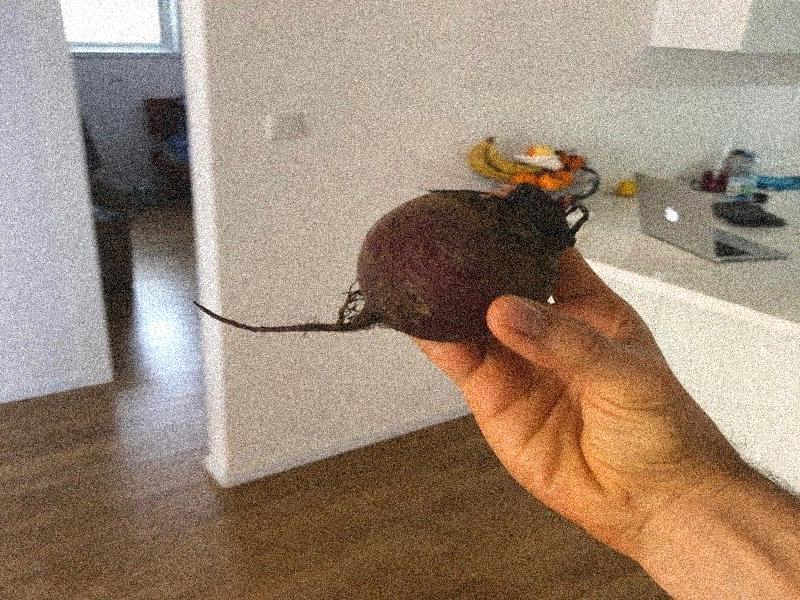Beet: (192, 185, 586, 340)
